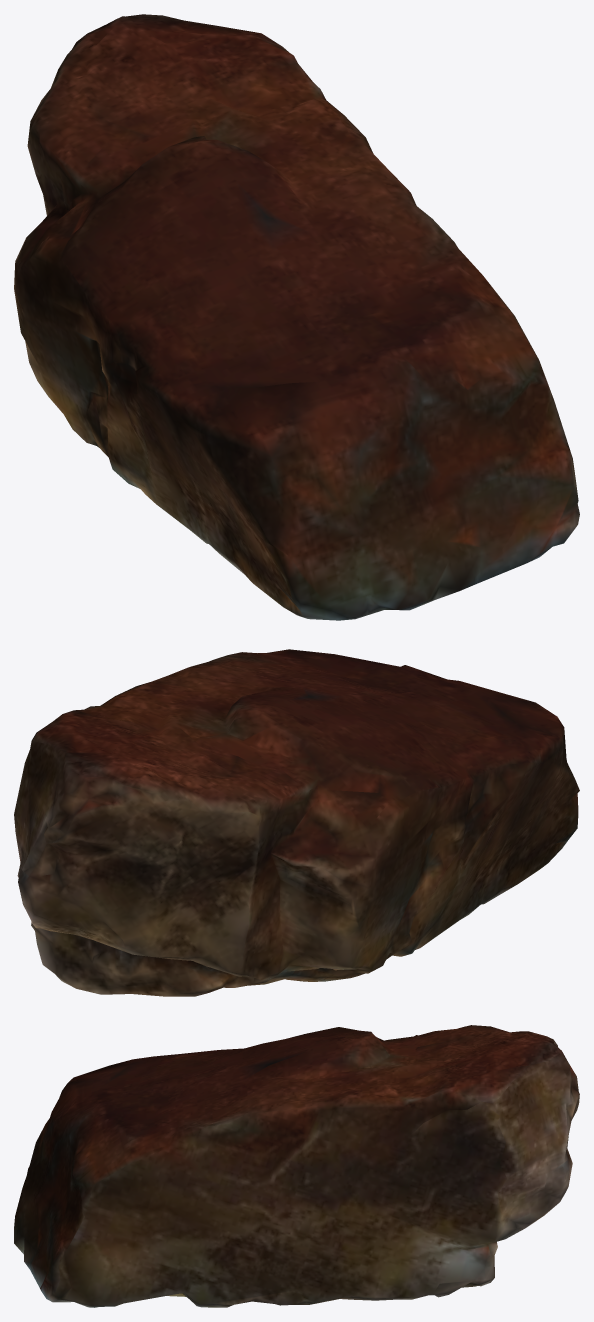
The model's file is rock_07.glb.
3 views of the same model, one above another, from view 1: azimuth 30°, elevation 25°; view 2: azimuth 150°, elevation 25°; view 3: azimuth 270°, elevation 25° (orthographic). The views are drawn at different scales.
Visible parts, largest first — view 1: rock_07; view 2: rock_07; view 3: rock_07.
Part boxes in pixels (left/top/right/bottom): rock_07: left=14, top=14, right=579, bottom=620; rock_07: left=14, top=649, right=579, bottom=996; rock_07: left=14, top=1025, right=579, bottom=1307.
Bounding box in the file's own units: 0.1681 × 0.1437 × 0.3199.
1 material, 1 textured.
